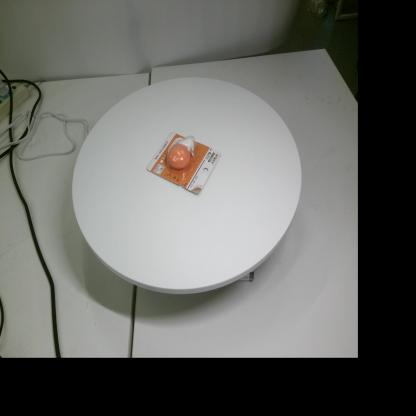Stationery: (146, 132, 221, 196)
